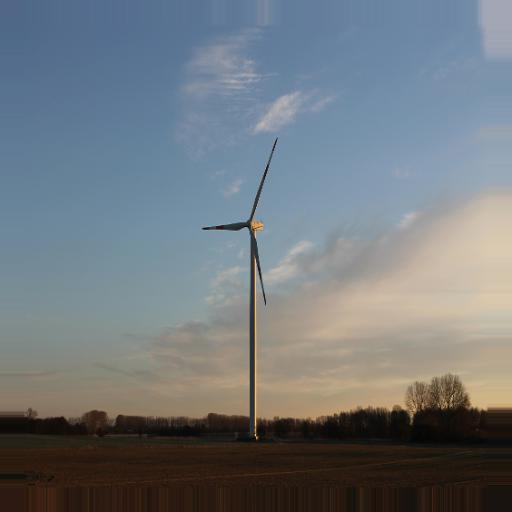wind turbine: (199, 134, 281, 437)
